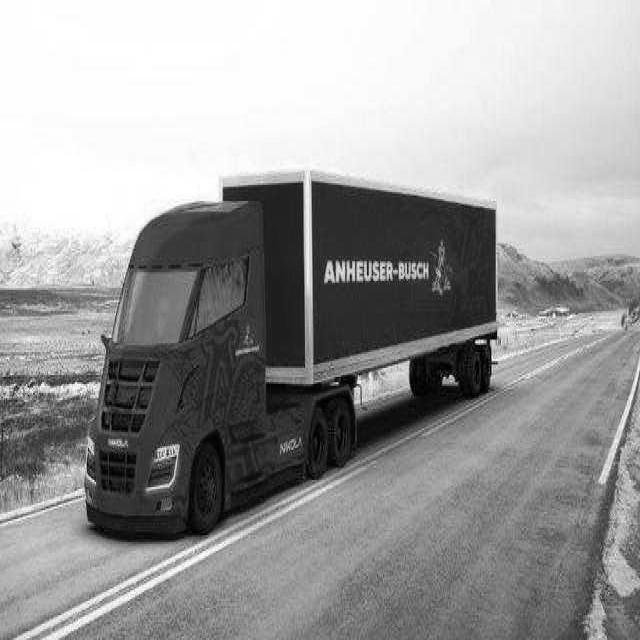Truck: (85, 171, 496, 532)
